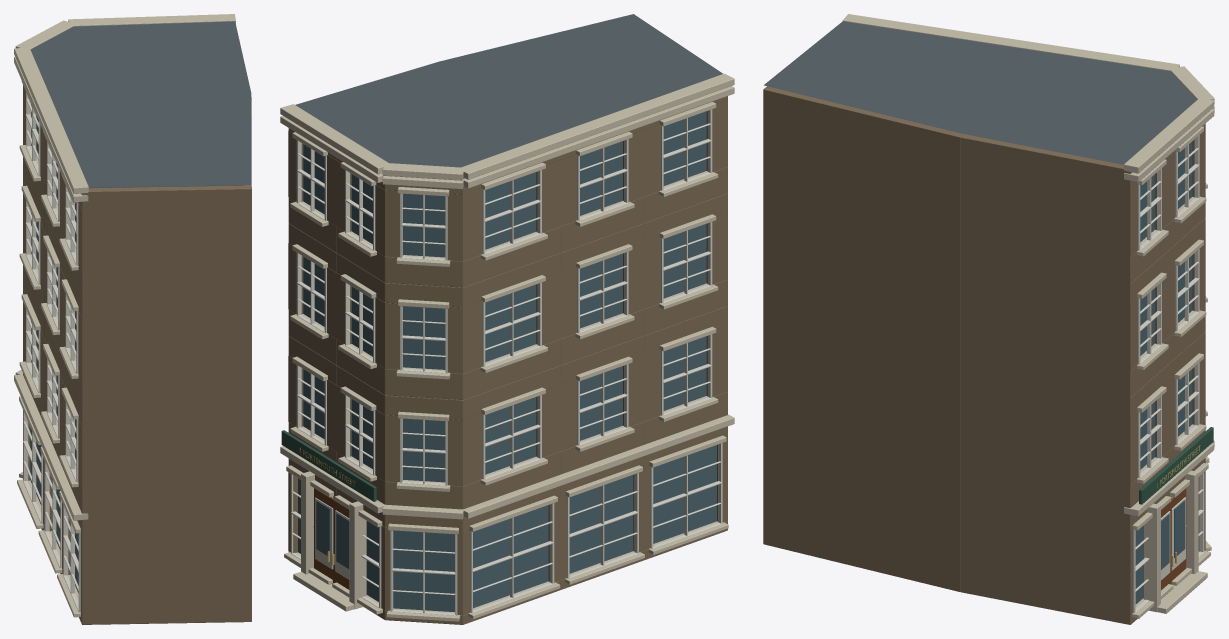
Rendered from por-exterior-c6bcff33de6f.glb.
3 renders of one model, left to right at view 1: azimuth 30°, elevation 25°; view 2: azimuth 150°, elevation 25°; view 3: azimuth 270°, elevation 25°, orthographic. The views are drawn at different scales.
Parts seen in each view (by area): view 1: POR.001; view 2: POR.001; view 3: POR.001.
Part boxes in pixels (left/top/right/bottom): POR.001: left=14, top=14, right=251, bottom=624; POR.001: left=280, top=14, right=734, bottom=624; POR.001: left=763, top=14, right=1214, bottom=624.
Bounding box in the file's own units: 10.12 × 14.15 × 12.58.
